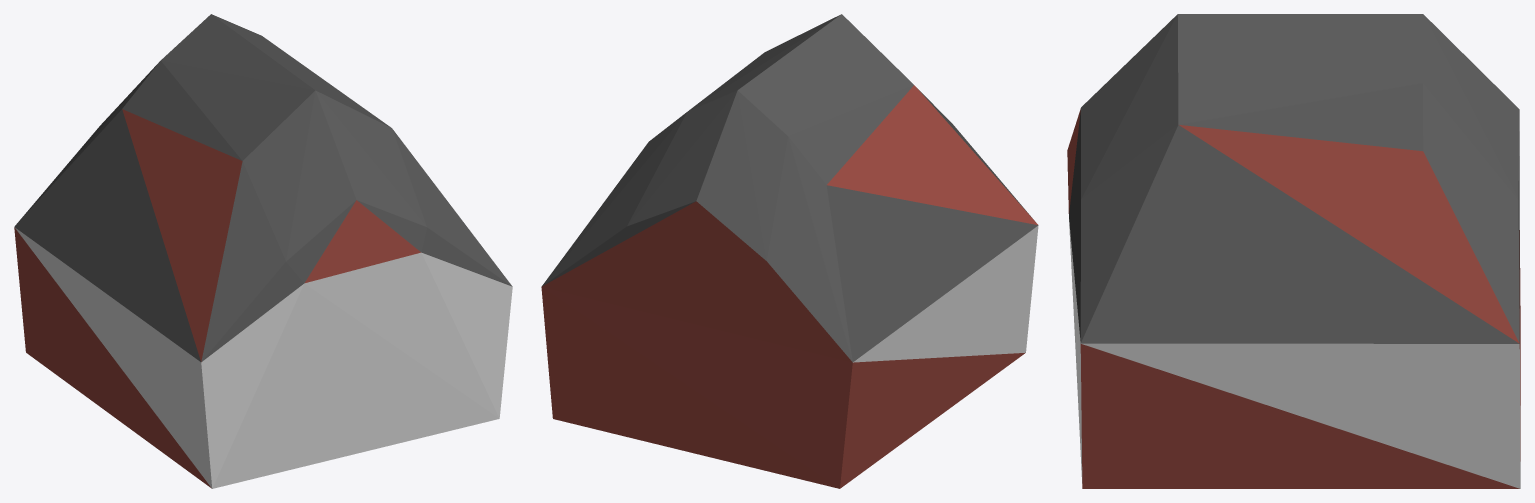
Rendered from BigBarn.lod4.glb.
3 views of the same model, side by side, from view 1: azimuth 30°, elevation 25°; view 2: azimuth 150°, elevation 25°; view 3: azimuth 270°, elevation 25° (orthographic). The views are drawn at different scales.
Visible parts, largest first — view 1: BigBarn; view 2: BigBarn; view 3: BigBarn.
Part boxes in pixels (x1=…): BigBarn: x1=14, y1=14, x2=512, y2=488; BigBarn: x1=541, y1=14, x2=1038, y2=488; BigBarn: x1=1067, y1=14, x2=1520, y2=488.
Size of the model in its own units: 7.72 by 7.89 by 8.25.
